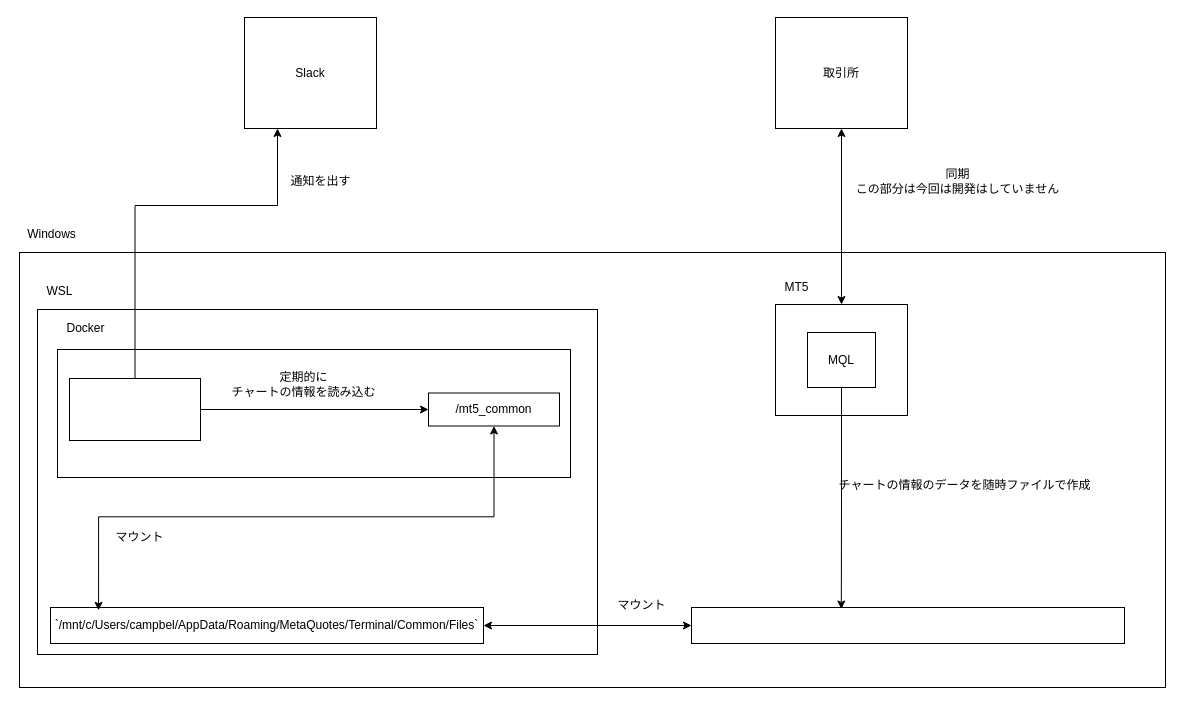
This 1183x705 diagram has some shape labels left out. Here are the shapes that lost their labels. From the top down, the box of each, then its label:
(68, 378, 200, 440): Python
(690, 606, 1124, 644): `C:\Users\<ユーザー名>\AppData\Roaming\MetaQuotes\Terminal\Common\Files
